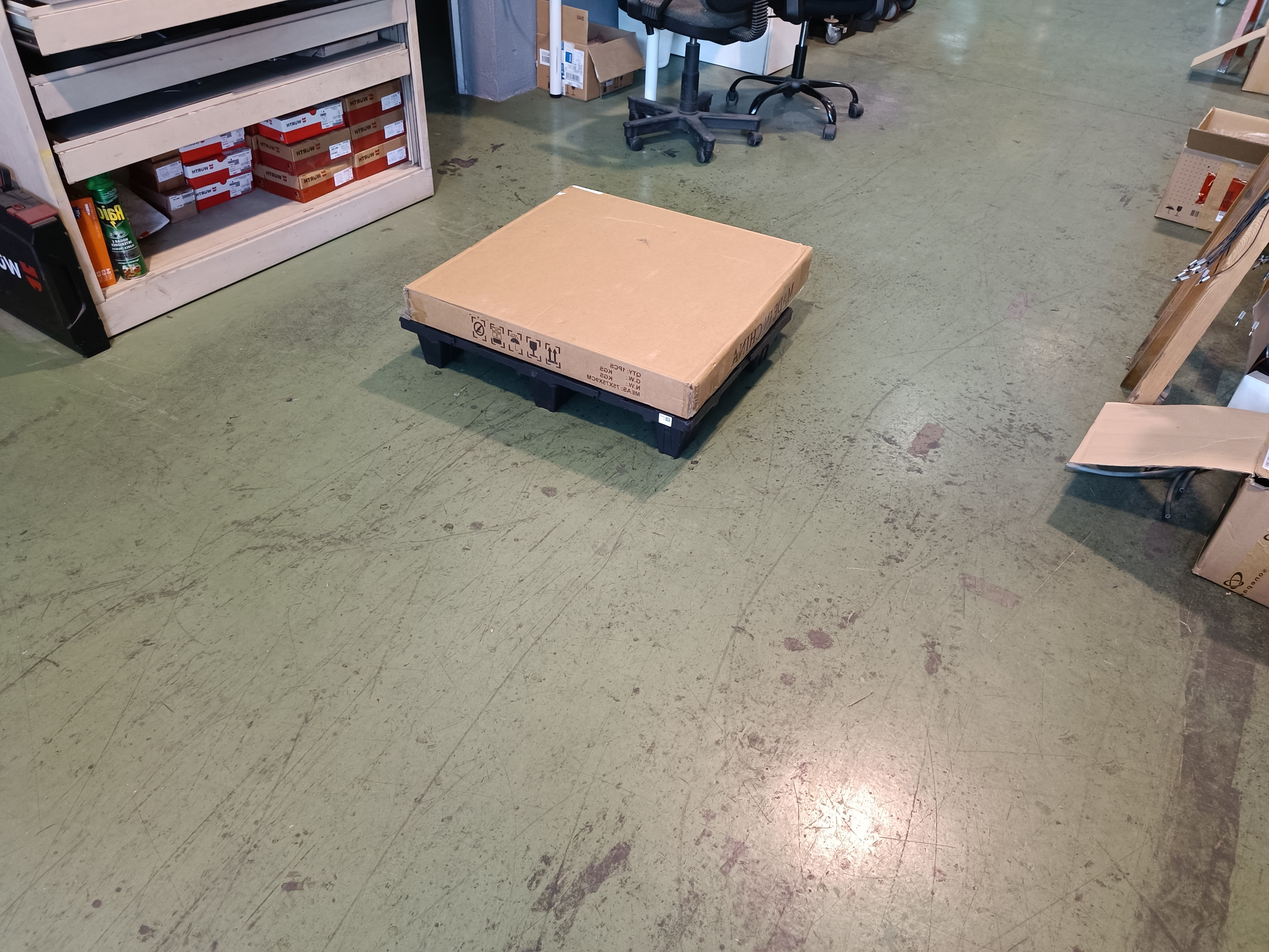block: (414, 337, 454, 370), (651, 424, 685, 459), (530, 379, 558, 415)
hole pallet: (555, 387, 657, 456), (439, 348, 533, 409)
